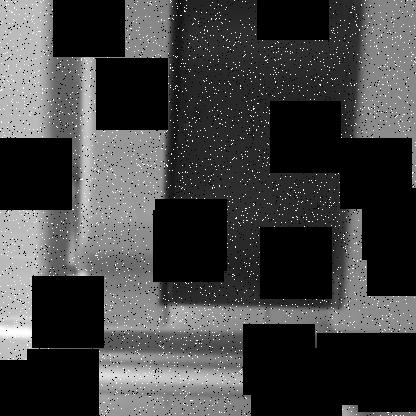Porte: (156, 1, 364, 310)
